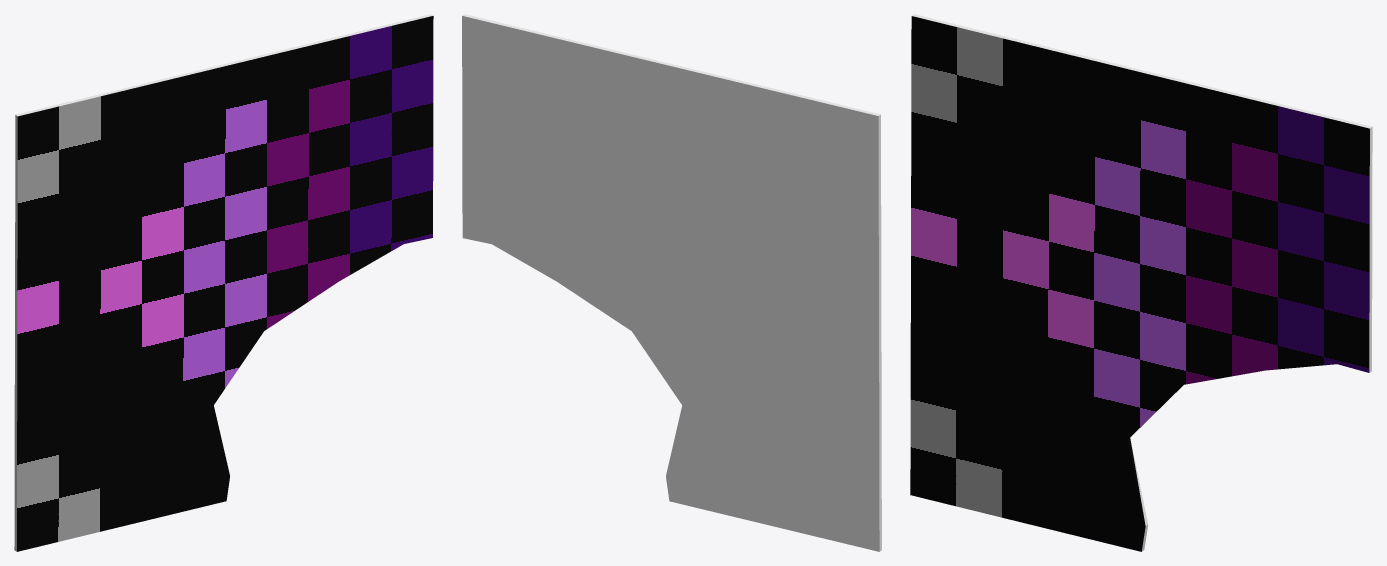
Rendered from crack_1.obj.
3 renders of one model, left to right at view 1: azimuth 30°, elevation 25°; view 2: azimuth 150°, elevation 25°; view 3: azimuth 330°, elevation 25°, orthographic. The views are drawn at different scales.
Parts seen in each view (by area): view 1: CrackedTile_CrackedTileTop, CrackedTile_CrackedTileEdge; view 2: CrackedTile_CrackedTileBottom, CrackedTile_CrackedTileEdge; view 3: CrackedTile_CrackedTileTop, CrackedTile_CrackedTileEdge.
Part boxes in pixels (x1,y1,x2,y2): CrackedTile_CrackedTileTop: [17, 16, 433, 551]; CrackedTile_CrackedTileEdge: [14, 14, 432, 551]; CrackedTile_CrackedTileBottom: [462, 16, 879, 551]; CrackedTile_CrackedTileEdge: [462, 14, 881, 551]; CrackedTile_CrackedTileTop: [910, 16, 1369, 551]; CrackedTile_CrackedTileEdge: [912, 14, 1372, 551].
Size of the model in its own units: 2 by 2 by 0.0224.
Materials: 3 (1 with a texture image).
